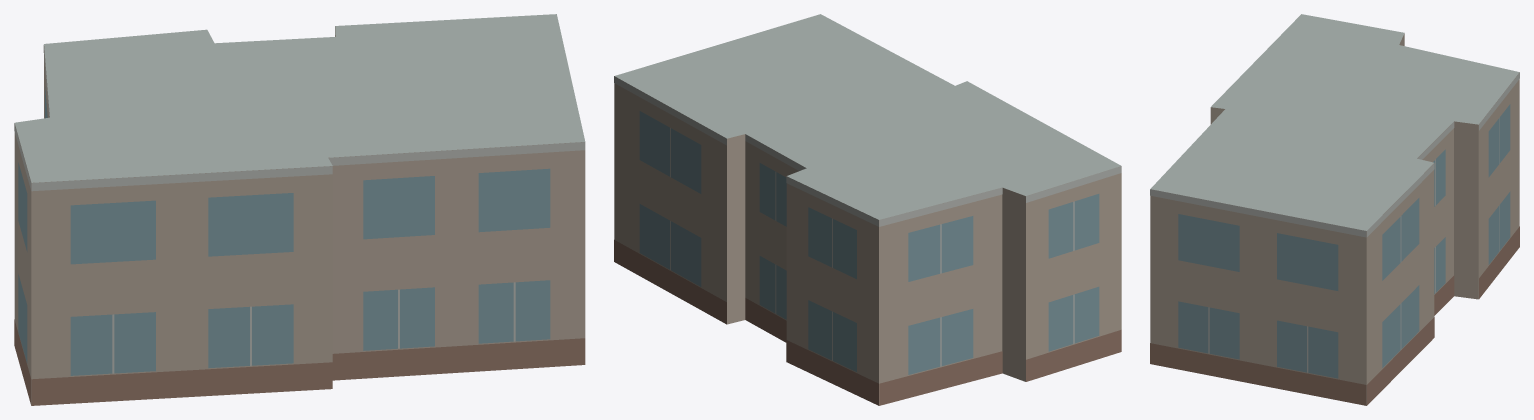
File: survey-upis-33032127.glb
3 views of the same model, side by side, from view 1: azimuth 30°, elevation 25°; view 2: azimuth 150°, elevation 25°; view 3: azimuth 270°, elevation 25° (orthographic). The views are drawn at different scales.
Visible parts, largest first — view 1: survey-upis-33032127.tmp; view 2: survey-upis-33032127.tmp; view 3: survey-upis-33032127.tmp.
Boxes of the visible parts, bbox=[...] form: survey-upis-33032127.tmp: bbox=[14, 14, 585, 405]; survey-upis-33032127.tmp: bbox=[614, 14, 1121, 405]; survey-upis-33032127.tmp: bbox=[1150, 14, 1519, 405].
Size of the model in its own units: 17.31 by 6.5 by 12.46.
